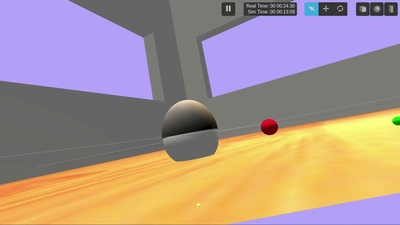mira_robot: (161, 100, 220, 162)
